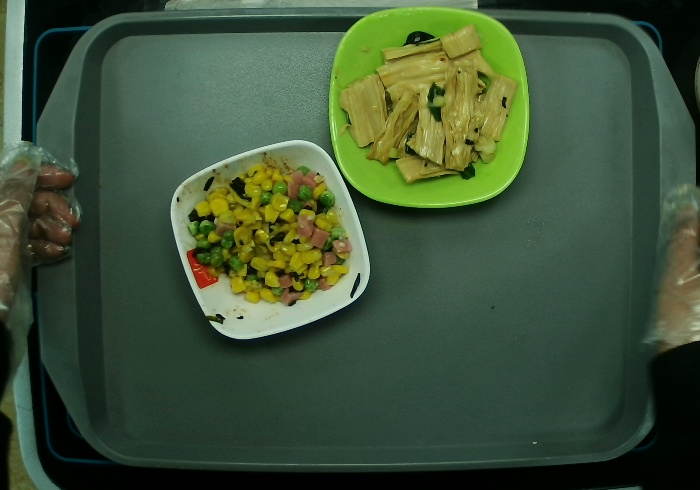SHKJ-Bai_Se_Xiao_Fang_Die: (169, 139, 372, 341)
SHKJ-Lv_Se_Cai_Die: (327, 4, 533, 210)
